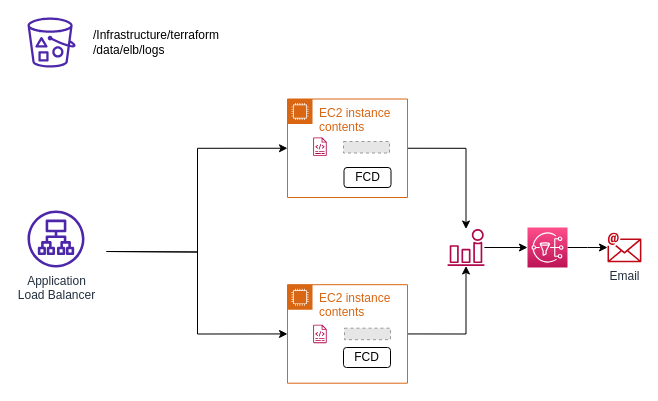
Image size: 658x401. Some labels were removed from this diagram. Grey dashed boxes stand in for pictures. The shapes that lost their labels are listed below. From the top down, each one's box as (x1, y1, x2, y2) in pixels, then its label:
(27, 17, 75, 67): S3
(447, 228, 484, 266): CloudWatch
(526, 226, 568, 268): SNS
